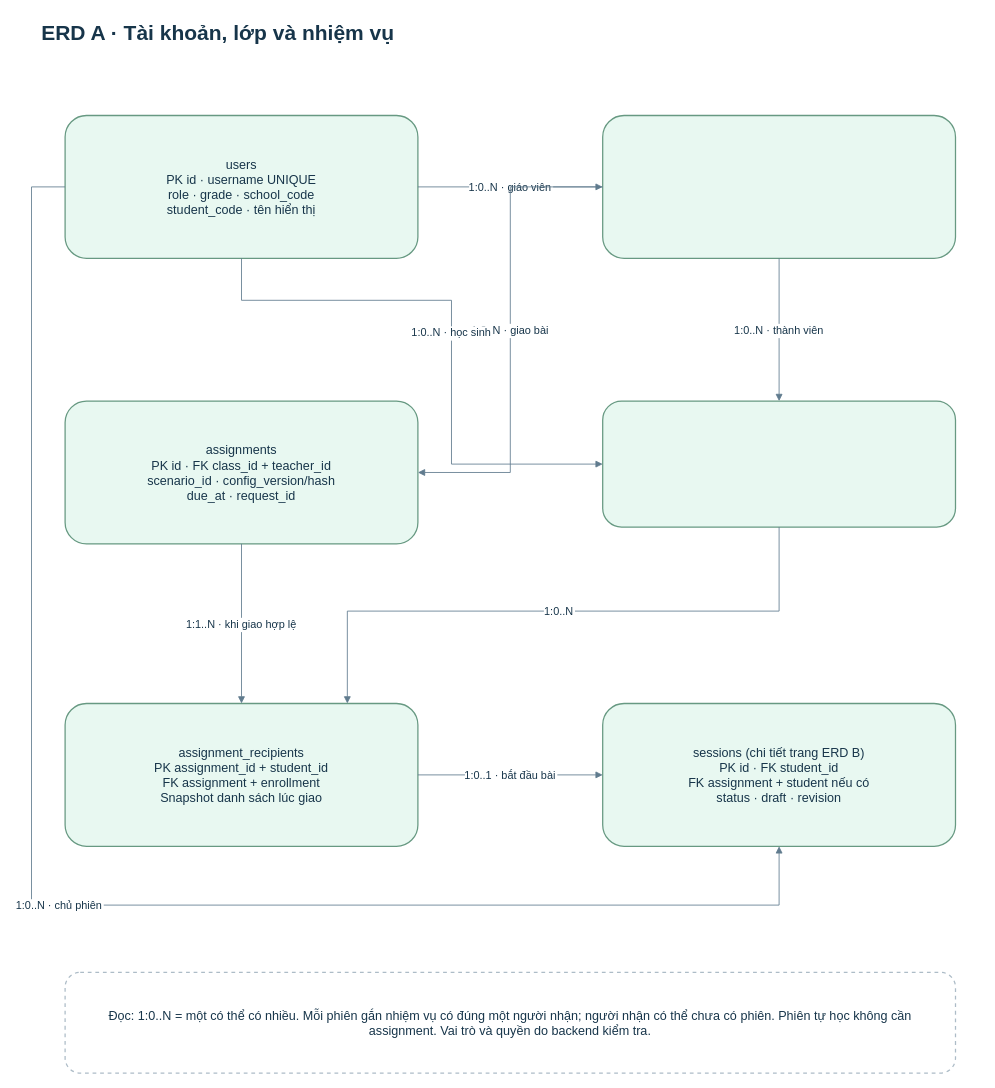
This 995x1088 diagram has some shape labels left out. Here are the shapes that lost their labels. From the top down, the centre of each, then its label:
At point 779,186: "classes PK id FK teacher_id → users name · grade".
At point 779,463: "enrollments PK / FK class_id + student_id active · enrolled_at".
